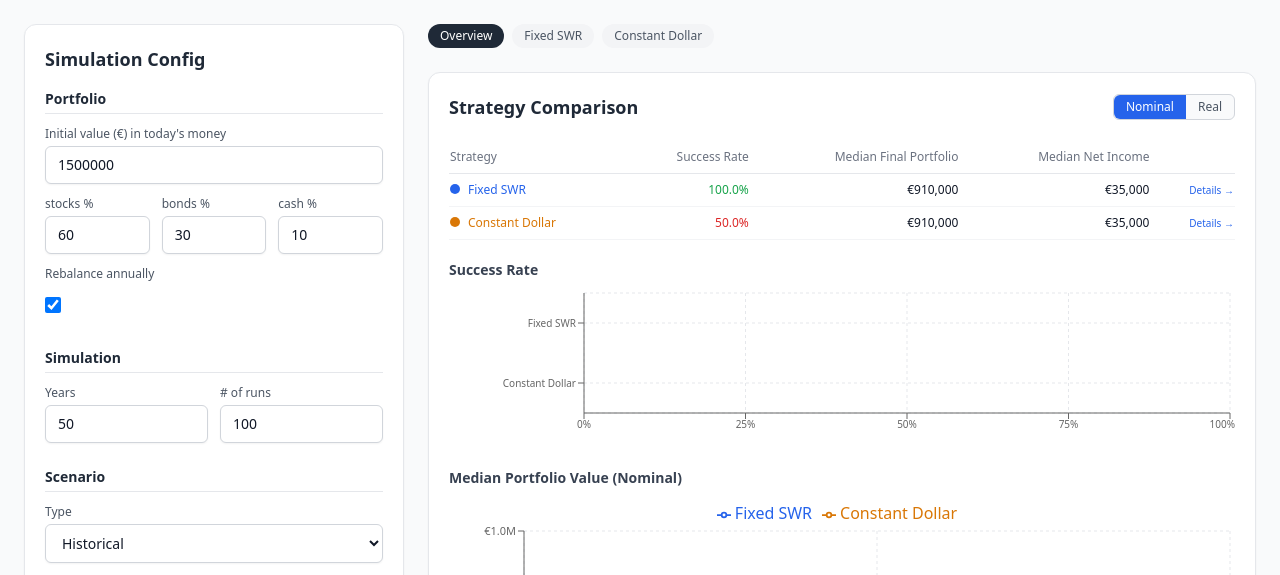
Test case: SimulationPage › multi-strategy results › hides comparison panel when a strategy is selected
Expected: the heading "Strategy Comparison" is shown, [449, 93, 638, 121]
Click the button "Fixed SWR": click(553, 36) [512, 24, 594, 48]
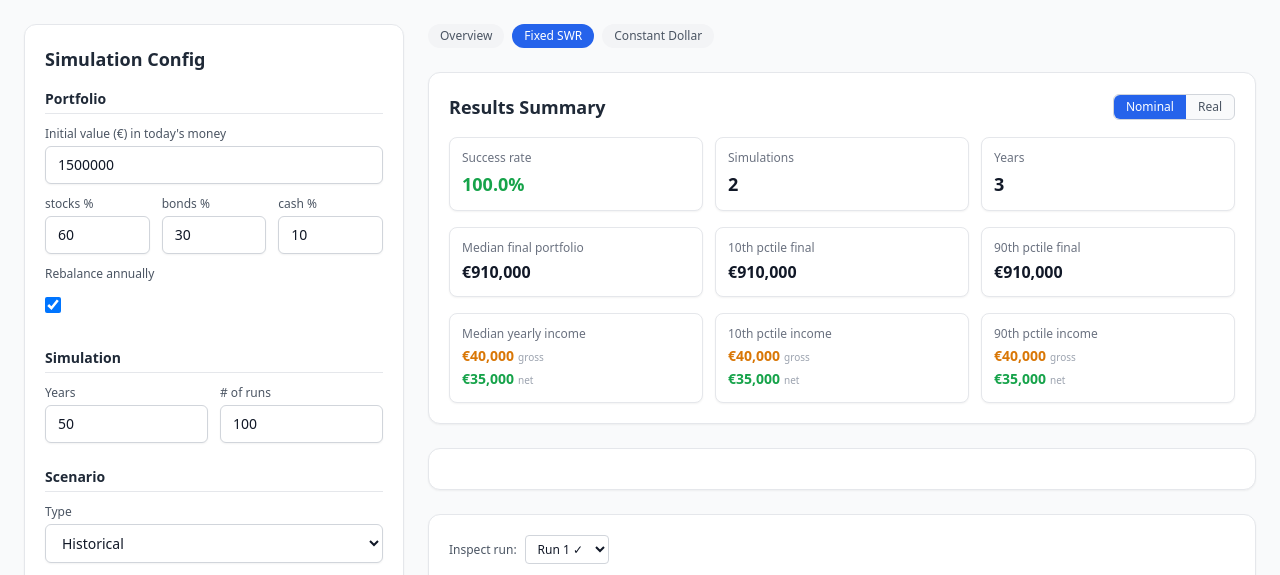
Now the heading "Strategy Comparison" is gone
